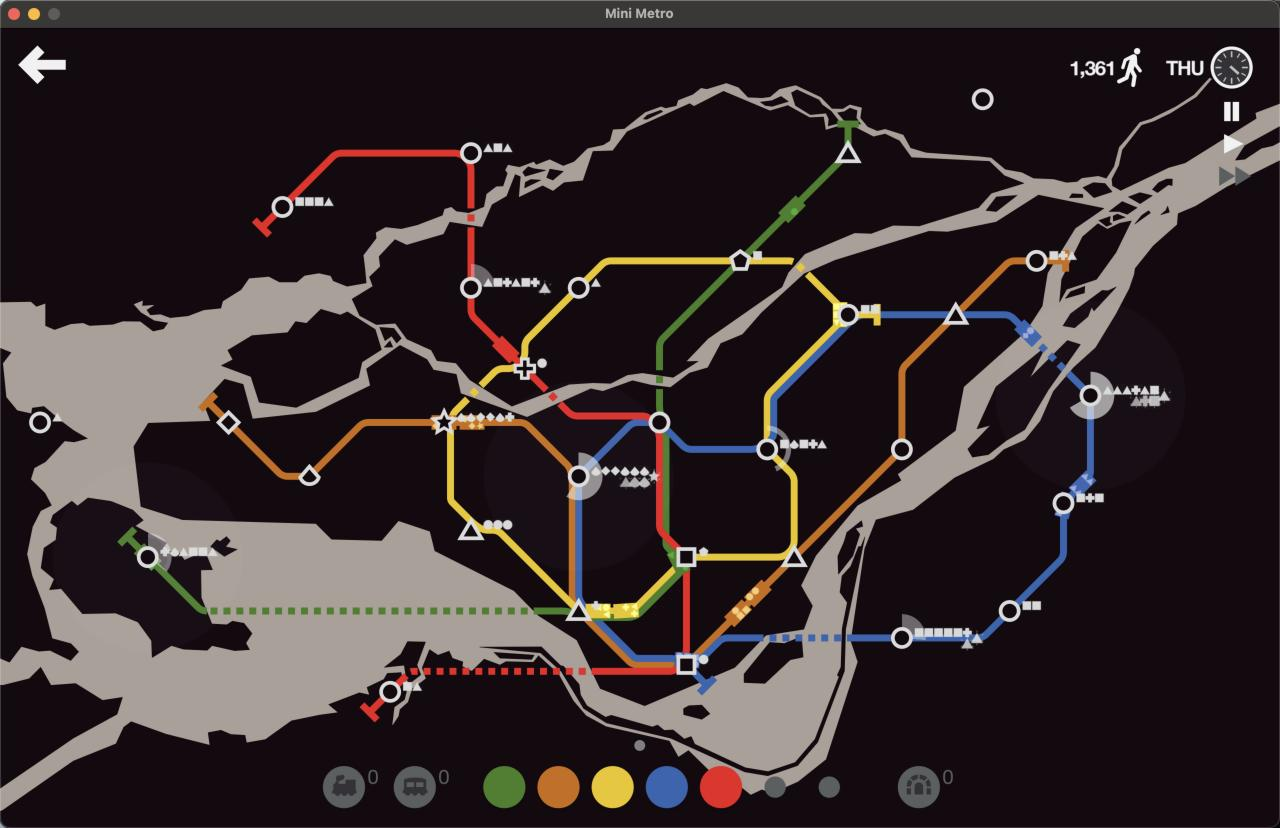CIRCLE: (378, 679, 403, 703), (1078, 383, 1103, 407), (459, 275, 483, 300), (29, 410, 53, 434), (136, 545, 160, 569), (1052, 491, 1076, 515), (998, 599, 1022, 622), (567, 465, 590, 489), (971, 87, 994, 111), (271, 195, 294, 218), (836, 303, 859, 326), (567, 276, 590, 299), (891, 626, 914, 649), (1025, 249, 1048, 272), (757, 438, 780, 461), (648, 411, 671, 434), (890, 438, 913, 461), (459, 142, 482, 164)
CROSS: (512, 356, 540, 380)
GEM: (216, 409, 242, 435)
PENTAGON: (729, 249, 752, 271)
SQUARE: (676, 653, 700, 675), (676, 547, 697, 567)
STAR: (430, 408, 457, 434)
TRIANGLE: (943, 300, 969, 326), (834, 141, 861, 165), (781, 544, 808, 568), (565, 597, 590, 621), (458, 519, 484, 541)
WEDGE: (297, 464, 321, 487)
